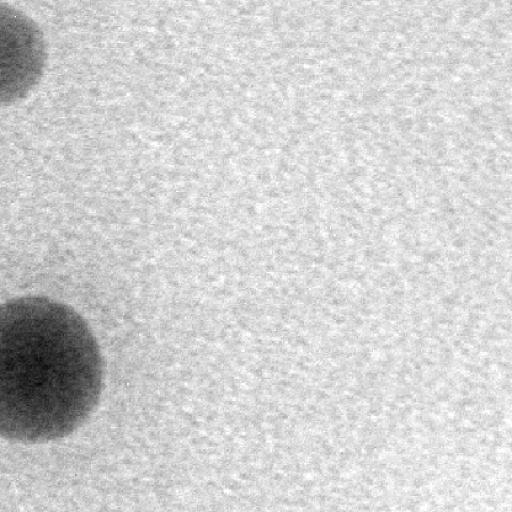Nanoparticles: (0, 294, 106, 443), (2, 4, 45, 104)
